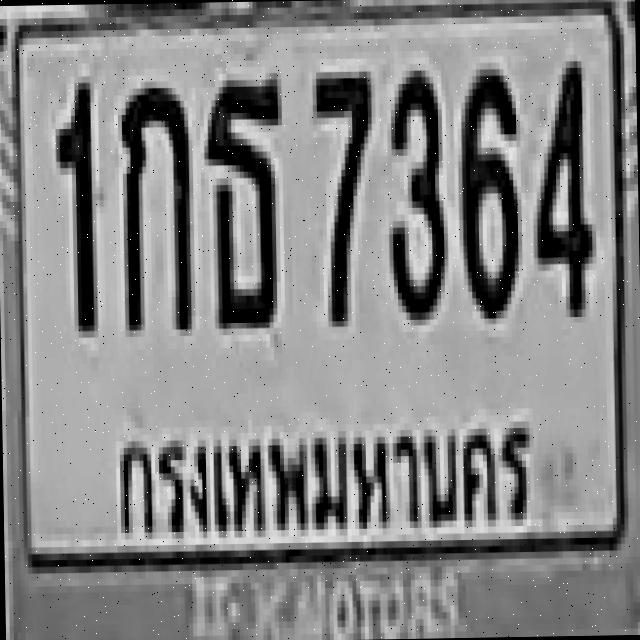1: (52, 76, 96, 331)
10GorGai: (119, 81, 190, 330)
3: (382, 64, 444, 312)
33ThorThong: (203, 73, 281, 322)
4: (530, 54, 589, 310)
6: (456, 62, 519, 311)
7: (312, 64, 371, 320)
